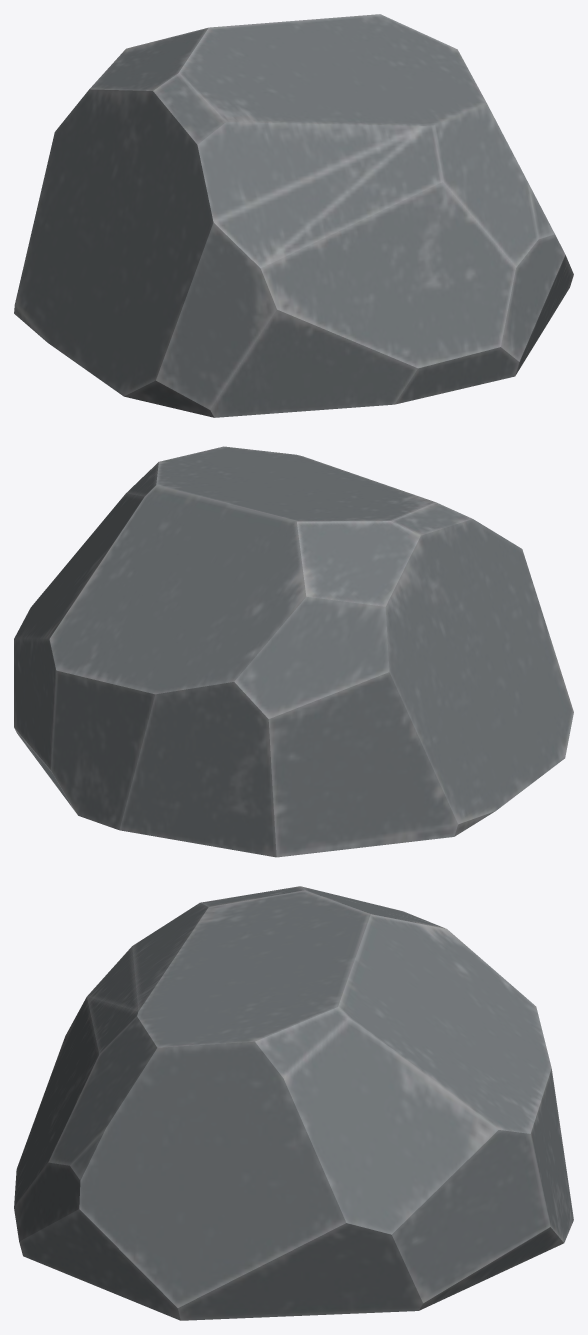
File: rock2.glb
3 views of the same model, one above another, from view 1: azimuth 30°, elevation 25°; view 2: azimuth 150°, elevation 25°; view 3: azimuth 270°, elevation 25° (orthographic). The views are drawn at different scales.
Parts seen in each view (by area): view 1: rock_002; view 2: rock_002; view 3: rock_002.
Boxes of the visible parts, box(x1,y1,x2,y2) form: rock_002: box(14, 14, 573, 417); rock_002: box(14, 446, 573, 857); rock_002: box(14, 886, 573, 1320).
Size of the model in its own units: 0.5228 by 0.2854 by 0.5337.
Materials: 1 (1 with a texture image).
